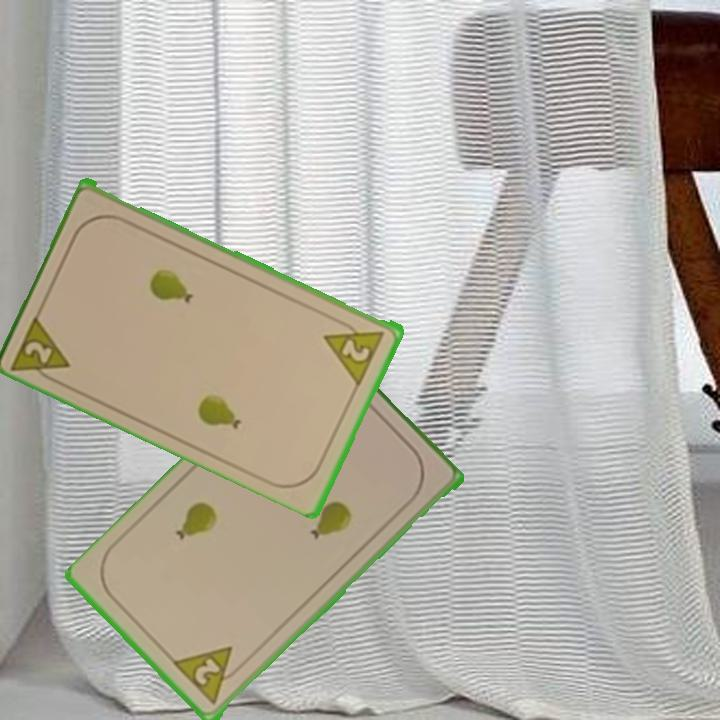2p: (8, 309, 74, 388), (171, 643, 247, 708), (321, 315, 389, 386)
